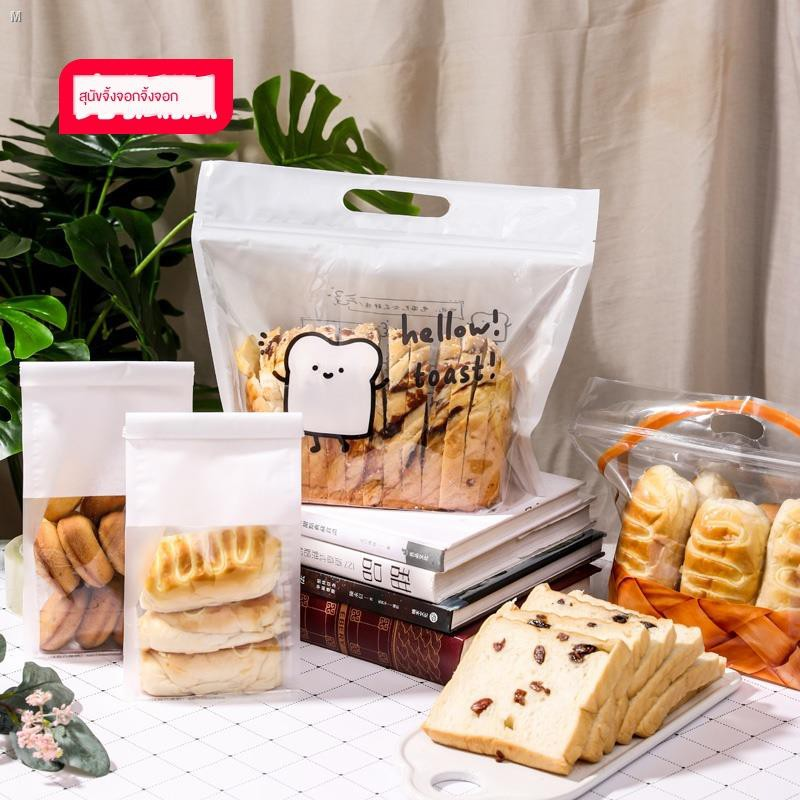Snack: (119, 408, 307, 704)
